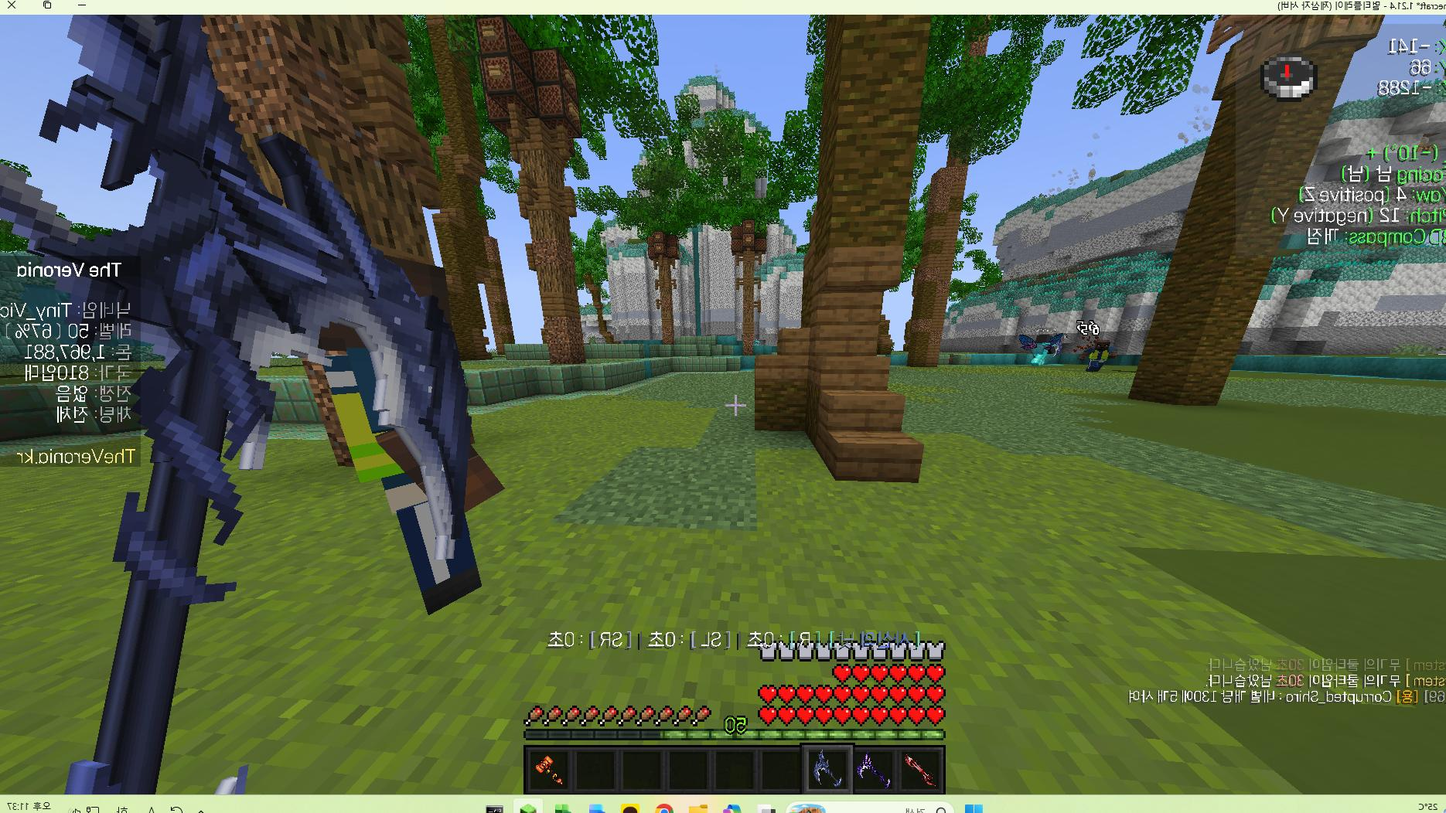Guardian: (321, 328, 481, 614), (466, 445, 503, 509), (390, 258, 446, 294)
